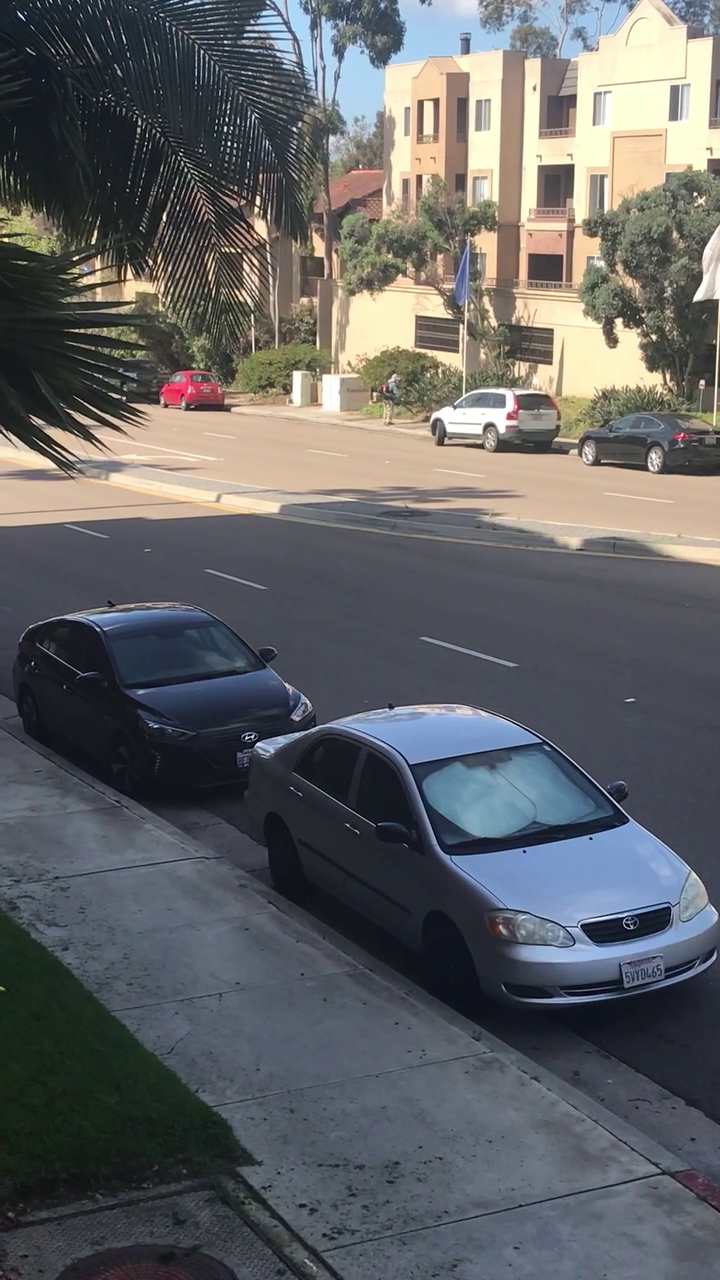car: (224, 705, 701, 1019), (11, 609, 316, 794)
